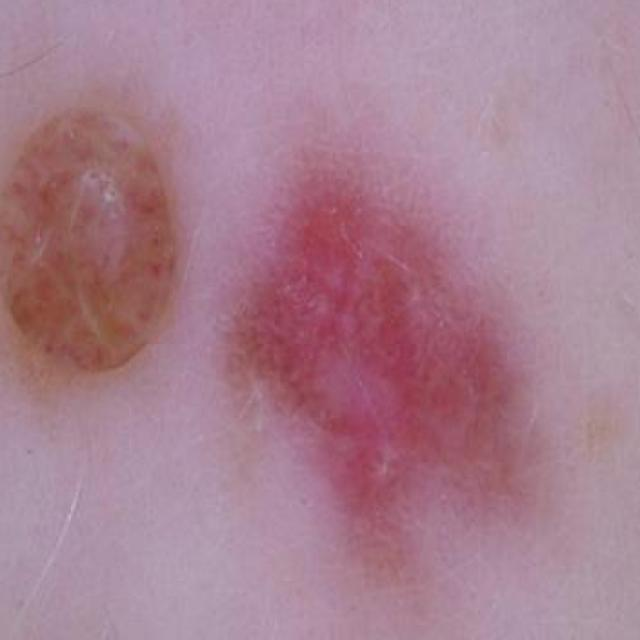MEL: (0, 53, 598, 580)
